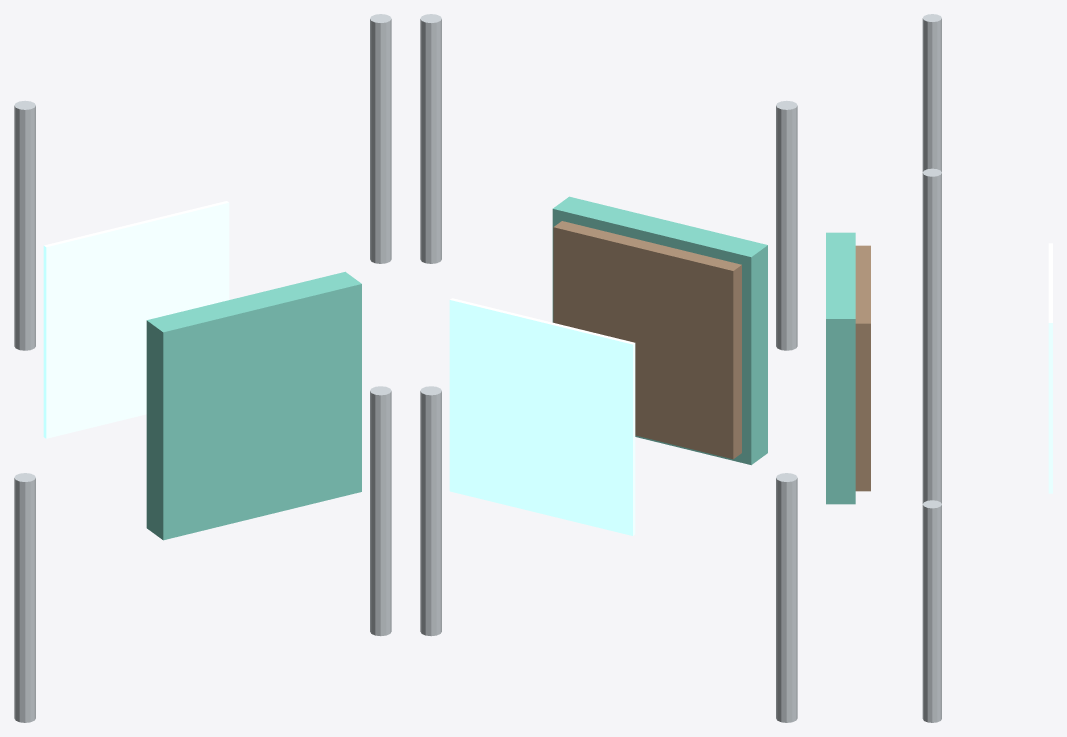
The model's file is plot_tower_dry_no_outline.glb.
3 views of the same model, side by side, from view 1: azimuth 30°, elevation 25°; view 2: azimuth 150°, elevation 25°; view 3: azimuth 270°, elevation 25° (orthographic). The views are drawn at different scales.
Visible parts, largest first — view 1: plot_tower_dry_base_no_outline, cantero_torre_energia_no_outline, cantero_torre_poste.001_no_outline, cantero_torre_poste.002_no_outline, cantero_torre_poste.003_no_outline, cantero_torre_poste_no_outline; view 2: cantero_torre_energia_no_outline, plot_tower_dry_solo_no_outline, plot_tower_dry_base_no_outline, cantero_torre_poste.001_no_outline, cantero_torre_poste.002_no_outline, cantero_torre_poste.003_no_outline, cantero_torre_poste_no_outline; view 3: plot_tower_dry_base_no_outline, cantero_torre_poste.002_no_outline, cantero_torre_poste.003_no_outline, plot_tower_dry_solo_no_outline, cantero_torre_poste.001_no_outline, cantero_torre_poste_no_outline, cantero_torre_energia_no_outline.
Part boxes in pixels (left/top/right/bottom): plot_tower_dry_base_no_outline: left=146, top=271, right=361, bottom=540; cantero_torre_energia_no_outline: left=43, top=201, right=229, bottom=438; cantero_torre_poste.001_no_outline: left=14, top=100, right=35, bottom=350; cantero_torre_poste.002_no_outline: left=370, top=386, right=391, bottom=636; cantero_torre_poste.003_no_outline: left=370, top=14, right=391, bottom=263; cantero_torre_poste_no_outline: left=14, top=473, right=35, bottom=722; cantero_torre_energia_no_outline: left=449, top=298, right=635, bottom=535; plot_tower_dry_solo_no_outline: left=553, top=221, right=741, bottom=459; plot_tower_dry_base_no_outline: left=552, top=196, right=767, bottom=465; cantero_torre_poste.001_no_outline: left=776, top=100, right=797, bottom=350; cantero_torre_poste.002_no_outline: left=420, top=386, right=441, bottom=636; cantero_torre_poste.003_no_outline: left=420, top=14, right=441, bottom=263; cantero_torre_poste_no_outline: left=776, top=473, right=797, bottom=722; plot_tower_dry_base_no_outline: left=826, top=232, right=855, bottom=504; cantero_torre_poste.002_no_outline: left=922, top=500, right=941, bottom=722; cantero_torre_poste.003_no_outline: left=922, top=168, right=941, bottom=391; plot_tower_dry_solo_no_outline: left=855, top=245, right=870, bottom=491; cantero_torre_poste.001_no_outline: left=922, top=14, right=941, bottom=171; cantero_torre_poste_no_outline: left=922, top=388, right=941, bottom=503; cantero_torre_energia_no_outline: left=1048, top=243, right=1052, bottom=493.
Bounding box in the file's own units: 3.58 × 5.6 × 2.11.
